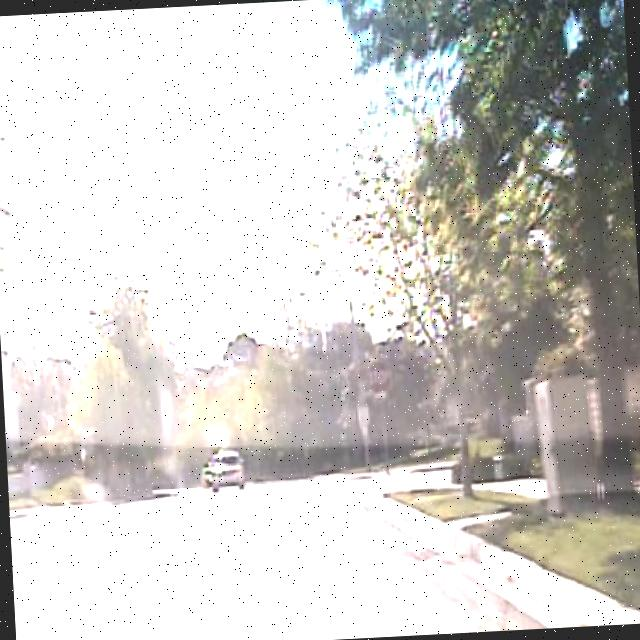Stop: (364, 356, 394, 401)
